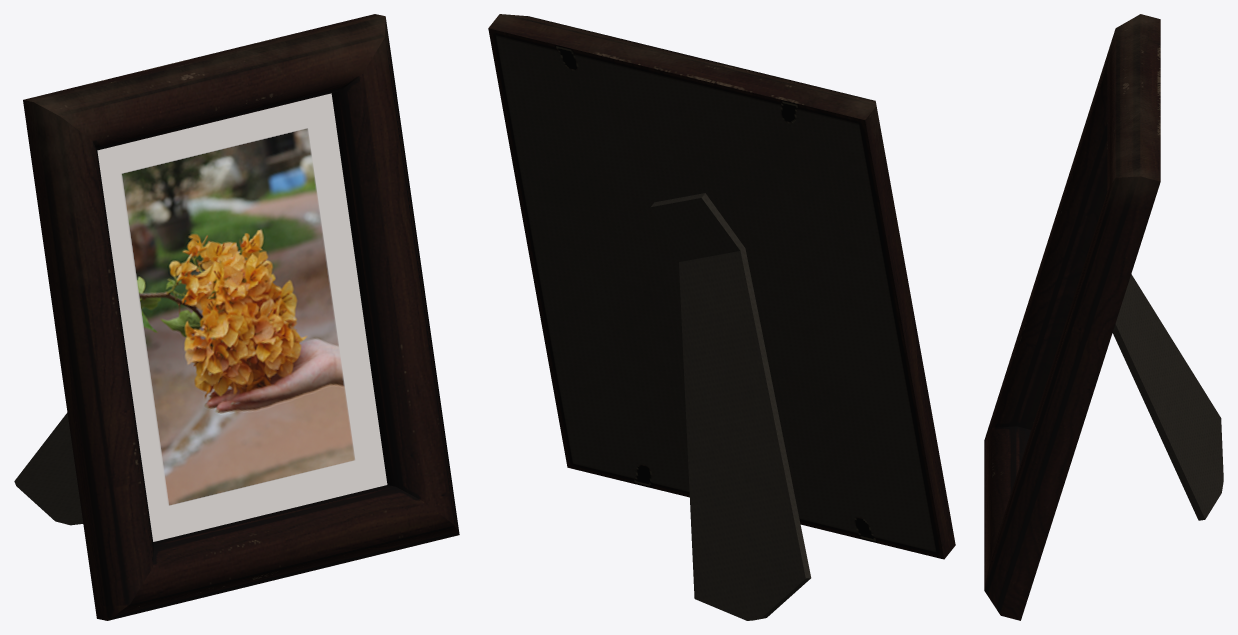
Rendered from PhotoFrameA.FBX.
3 renders of one model, left to right at view 1: azimuth 30°, elevation 25°; view 2: azimuth 150°, elevation 25°; view 3: azimuth 270°, elevation 25°, orthographic. The views are drawn at different scales.
Parts seen in each view (by area): view 1: PhotoFrameA; view 2: PhotoFrameA; view 3: PhotoFrameA.
Part boxes in pixels (left/top/right/bottom): PhotoFrameA: left=14, top=14, right=459, bottom=620; PhotoFrameA: left=488, top=14, right=955, bottom=620; PhotoFrameA: left=984, top=14, right=1223, bottom=620.
Bounding box in the file's own units: 6.3 × 8.05 × 3.93.
